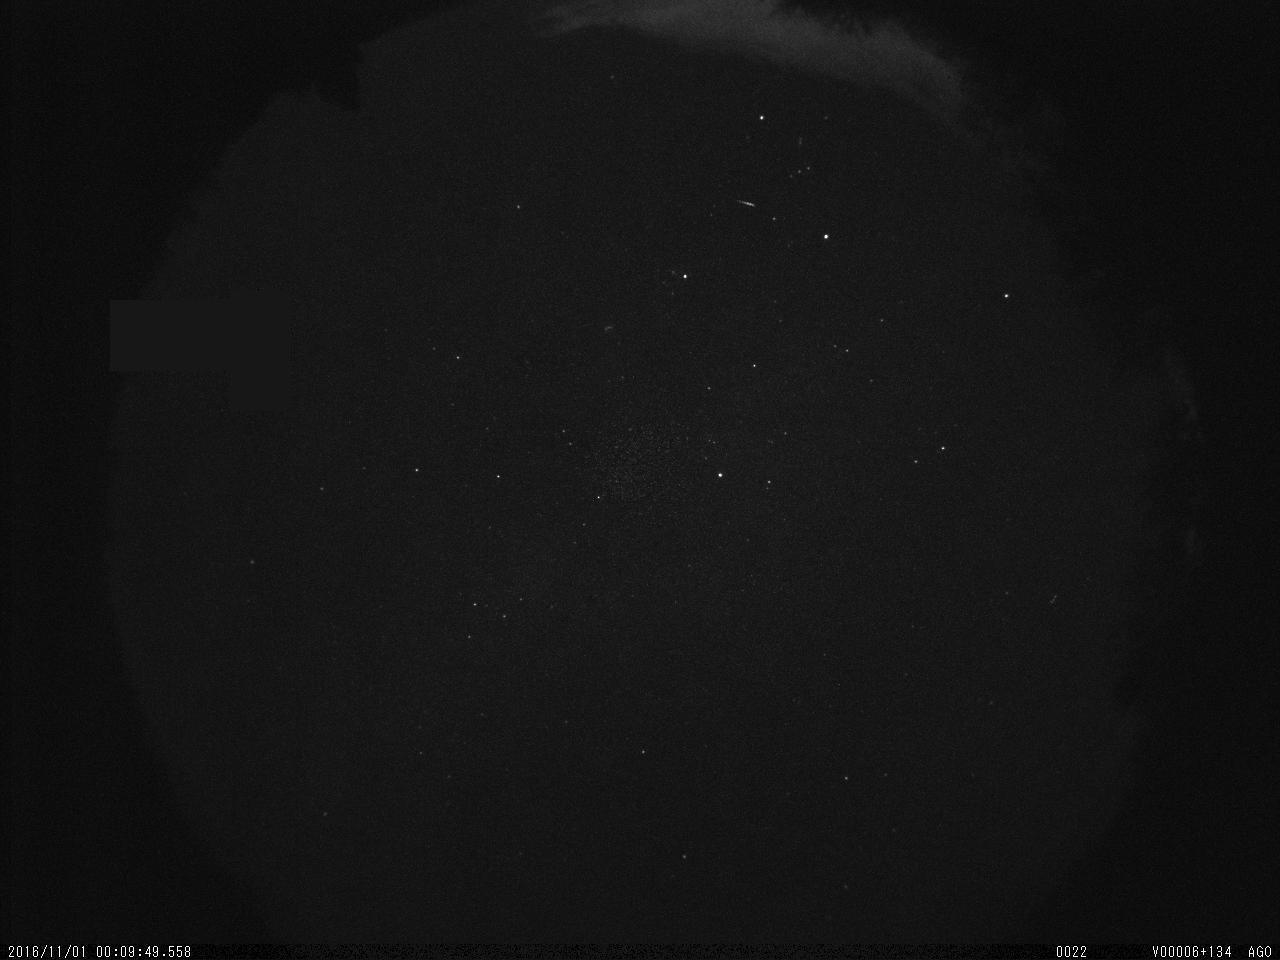meteor: (726, 190, 766, 218)
